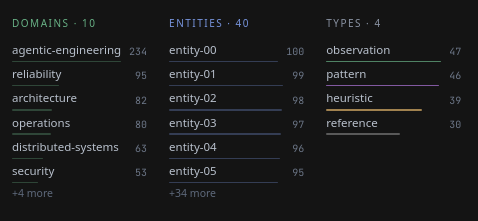
Test: overflow browser › search narrows to values that never made the top six — the 714-entity case
Click the text with test id "facet-more" showing "+34 more" at {"x": 193, "y": 193}, box [169,186,216,200]
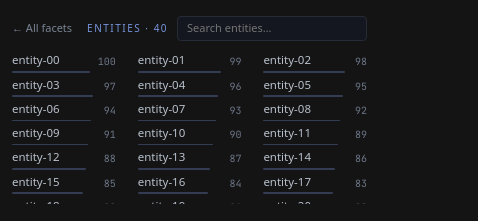
Type "ty-39" into the field with test id "facet-search" at {"x": 272, "y": 29}, box [177,16,367,41]
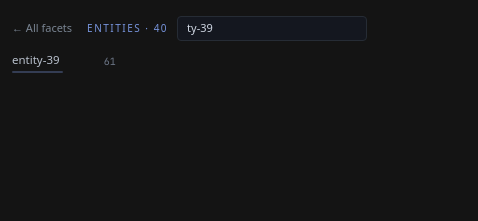
Expected: the number of elements with test id "tag-item" is 1, [12,50,116,74]
